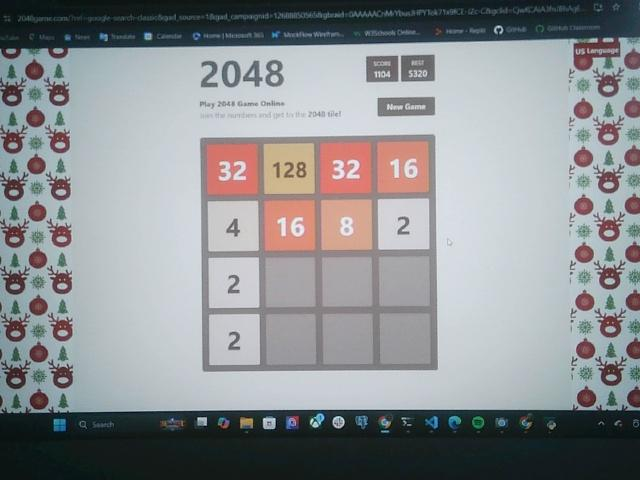board: (201, 137, 437, 370)
tile: (264, 143, 316, 195), (377, 143, 430, 194), (378, 199, 430, 250), (322, 198, 372, 251), (321, 143, 372, 194), (209, 257, 260, 308), (208, 143, 258, 195), (209, 202, 259, 253), (265, 202, 316, 251), (211, 315, 261, 364)
